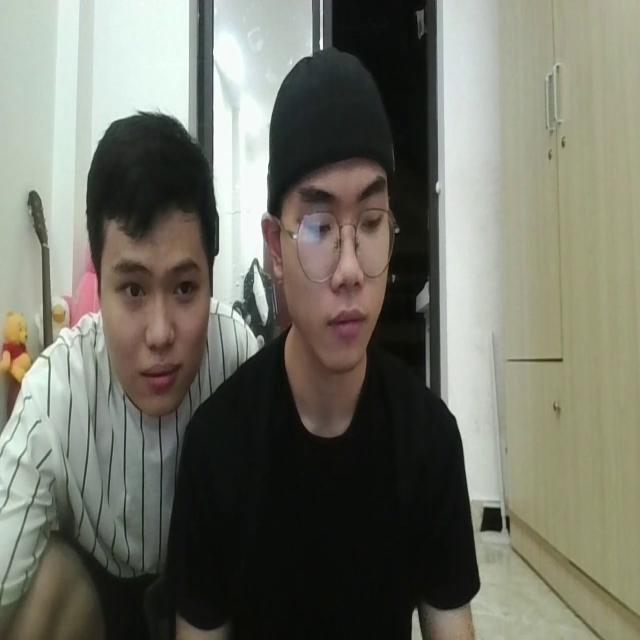extra_person: (18, 125, 212, 632)
student: (176, 50, 477, 640)
